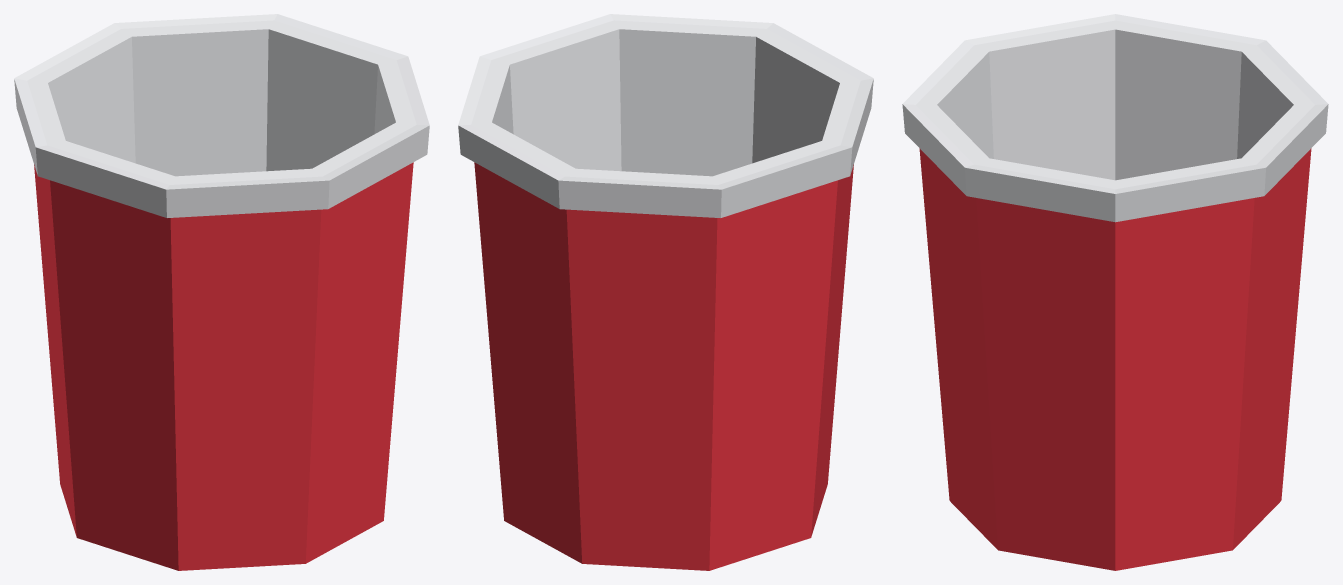
The model's file is redcup.fbx.
The picture shows the model from 3 angles, left to right: view 1: azimuth 30°, elevation 25°; view 2: azimuth 150°, elevation 25°; view 3: azimuth 270°, elevation 25°; orthographic projection.
Visible parts, largest first — view 1: redcup; view 2: redcup; view 3: redcup.
Part boxes in pixels (x1=…): redcup: x1=14, y1=14, x2=429, y2=570; redcup: x1=458, y1=14, x2=873, y2=570; redcup: x1=902, y1=14, x2=1328, y2=570.
Size of the model in its own units: 68.69 by 70.58 by 68.69.
